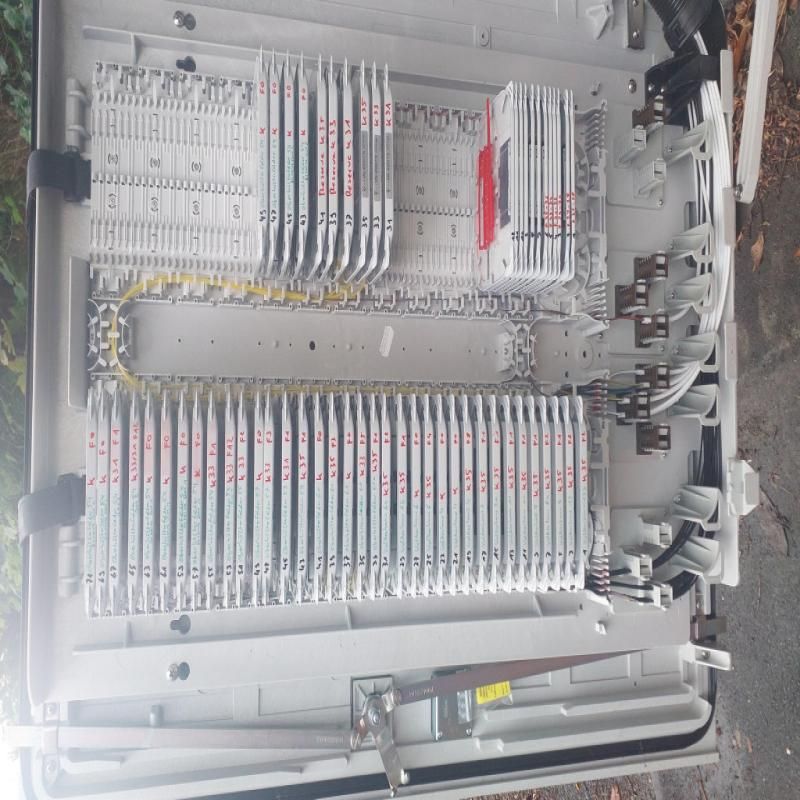NT-Gehause: (24, 0, 729, 798)
Spleiskassetten: (62, 36, 617, 331), (63, 354, 619, 636)
